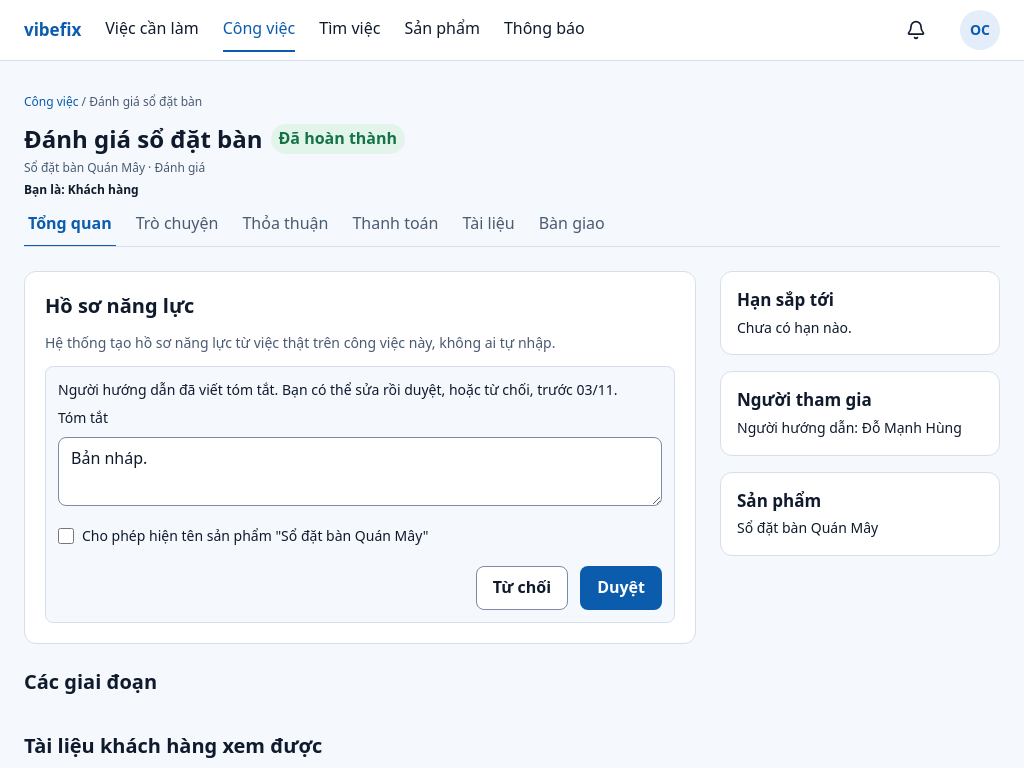
Test case: JOB-1 portfolio section (FR-50, UX-DR55) › lets the Customer edit and approve the summary with the Product name
Step 1. Replace the text in the text box labelled "Tóm tắt" with "Bản đã sửa." → [360, 471], box x1=58 y1=437 x2=662 y2=506
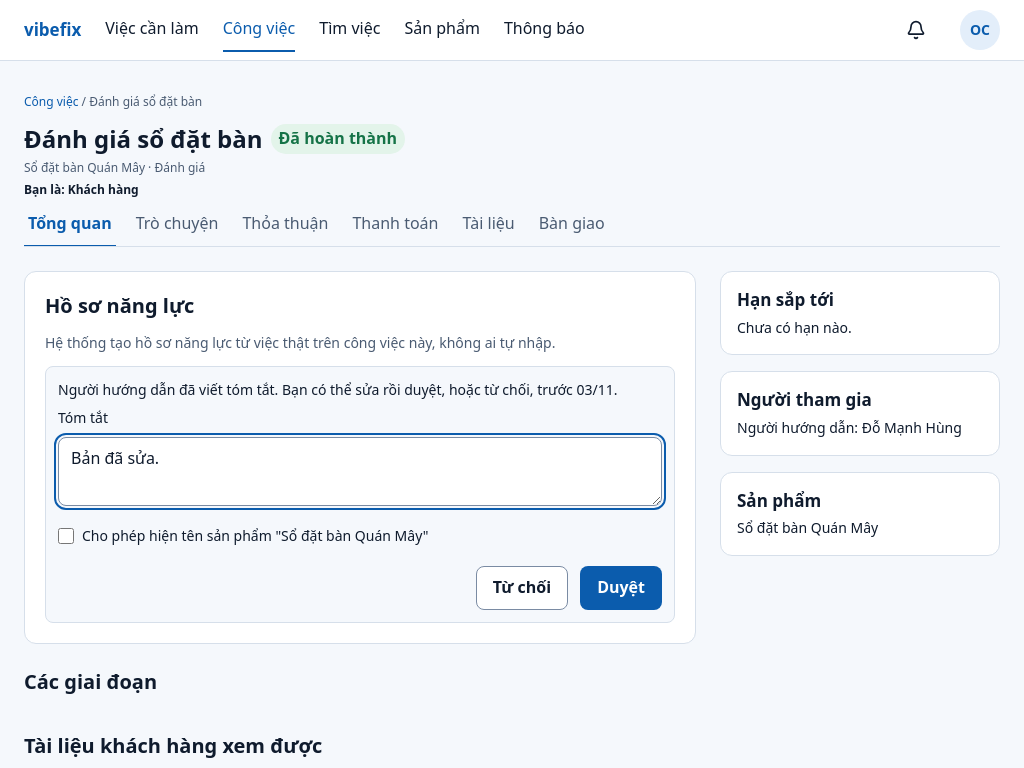
Step 2. Click the checkbox labelled "Cho phép hiện tên sản phẩm \"Sổ đặt bàn Quán Mây\"" → [66, 536], box x1=58 y1=528 x2=74 y2=544
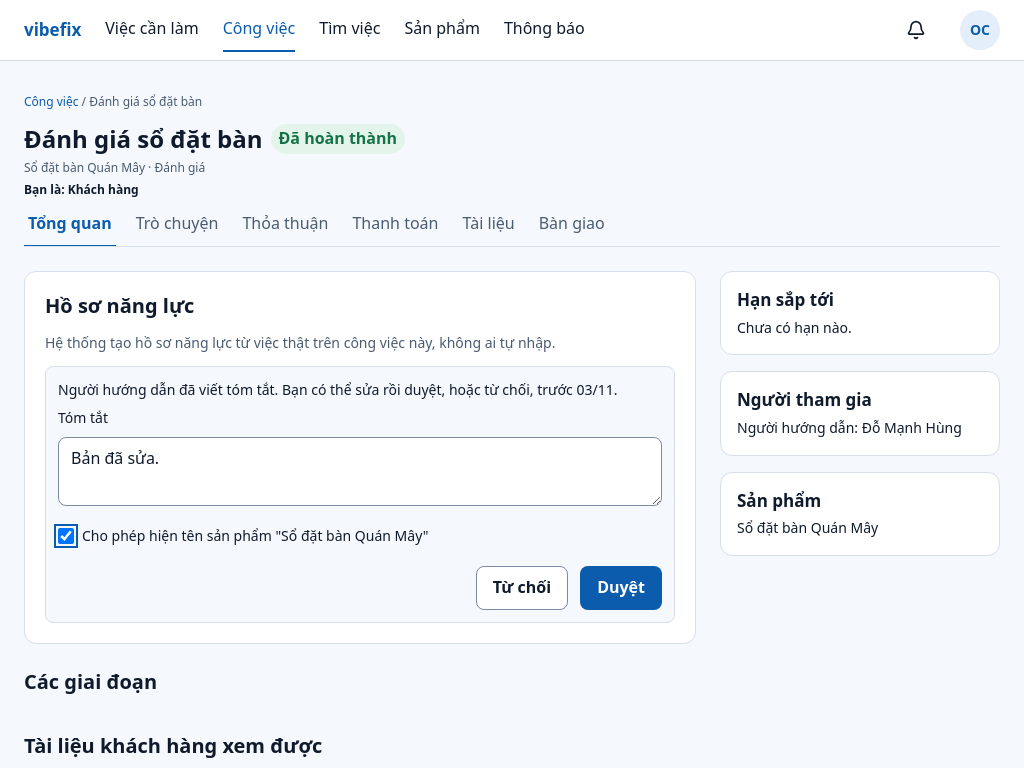
Step 3. Click the button "Duyệt" → [621, 588], box x1=580 y1=566 x2=662 y2=610
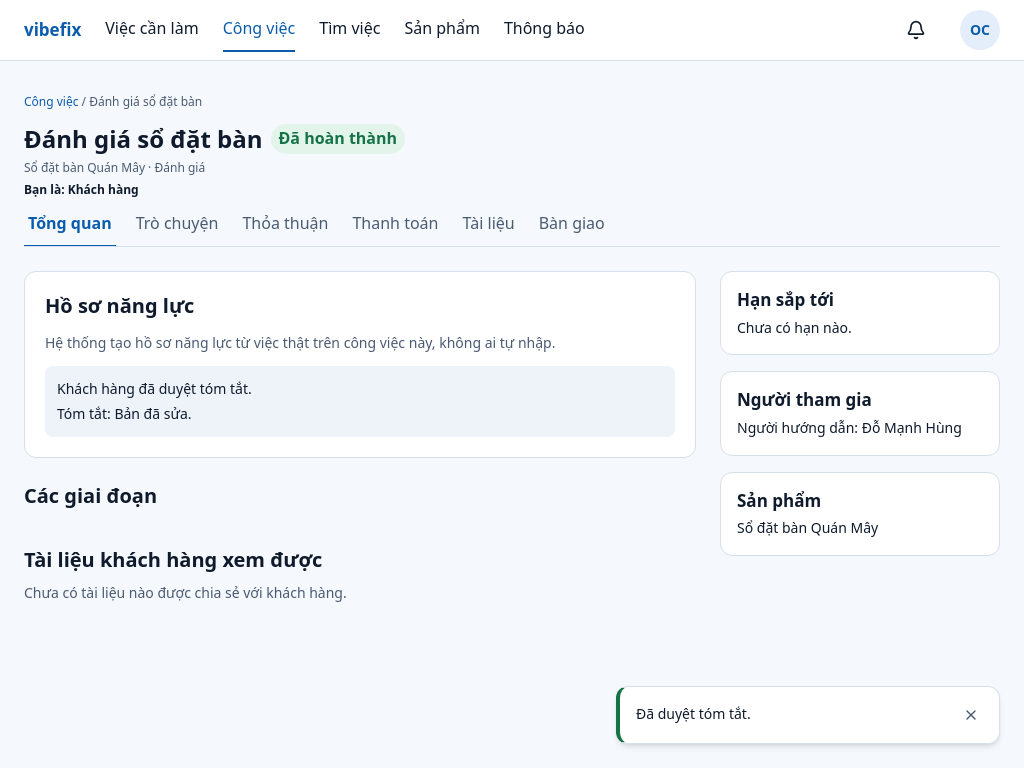
Check: the text "Khách hàng đã duyệt tóm tắt." is shown, box x1=57 y1=379 x2=252 y2=398
